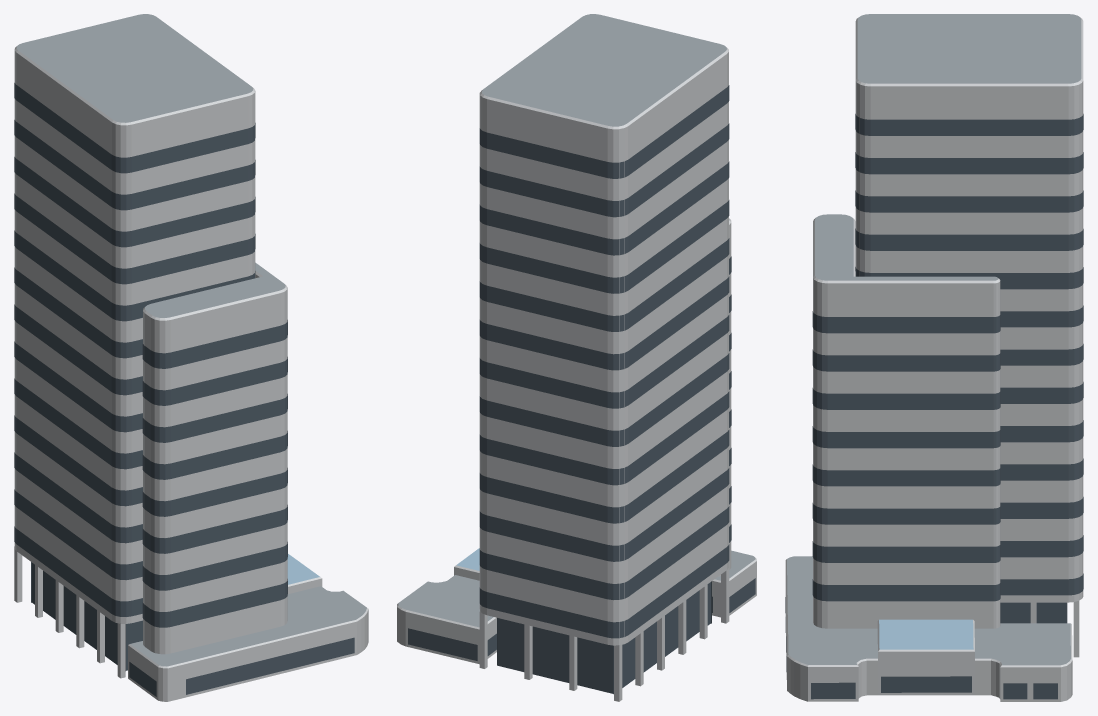
Rendered from pdx-pacwest-center.glb.
The picture shows the model from 3 angles, left to right: view 1: azimuth 30°, elevation 25°; view 2: azimuth 150°, elevation 25°; view 3: azimuth 270°, elevation 25°; orthographic projection. The views are drawn at different scales.
Visible parts, largest first — view 1: PacWest Center; view 2: PacWest Center; view 3: PacWest Center.
Boxes of the visible parts, x1,y1,x2,y2 form: PacWest Center: (14,14,368,701); PacWest Center: (397,14,756,701); PacWest Center: (785,14,1083,701).
Size of the model in its own units: 54.6 by 127 by 60.
